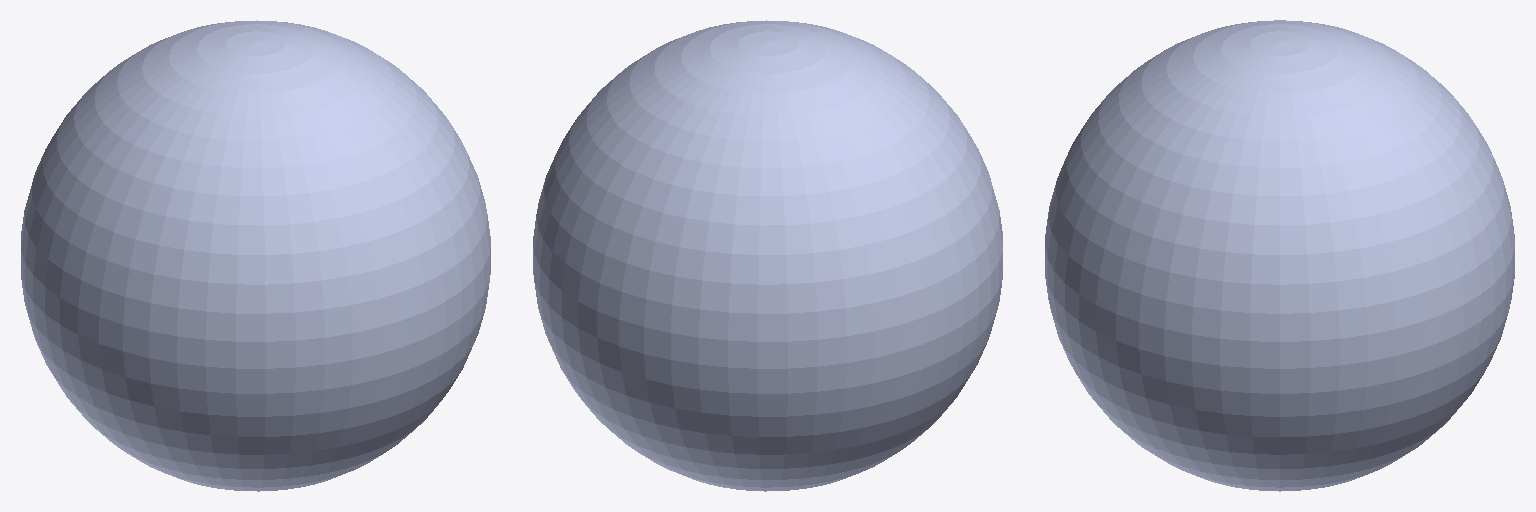
robot.urdf — tennis_ball2:
<?xml version="1.0" encoding="utf-8"?>
<!-- This URDF was automatically created by SolidWorks to URDF Exporter! Originally created by [author] ([email redacted]) 
     Commit Version: 1.6.0-4-g7f85cfe  Build Version: 1.6.7995.38578
     For more information, please see http://wiki.ros.org/sw_urdf_exporter -->
<robot
  name="tennis_ball2">
  <link
    name="base_link">
    <inertial>
      <origin
        xyz="-0.00050416 -3.1794E-06 -0.00035918"
        rpy="0 0 0" />
      <mass
        value="0.02382" />
      <inertia
        ixx="8.6651E-06"
        ixy="6.0302E-38"
        ixz="-1.7645E-38"
        iyy="8.6651E-06"
        iyz="-3.4438E-38"
        izz="8.6651E-06" />
    </inertial>
    <visual>
      <origin
        xyz="0 0 0"
        rpy="0 0 0" />
      <geometry>
        <mesh
          filename="package://tennis_ball2/meshes/base_link.STL" />
      </geometry>
      <material
        name="">
        <color
          rgba="0.79216 0.81961 0.93333 1" />
      </material>
    </visual>
    <collision>
      <origin
        xyz="0 0 0"
        rpy="0 0 0" />
      <geometry>
        <mesh
          filename="package://tennis_ball2/meshes/base_link.STL" />
      </geometry>
    </collision>
  </link>
</robot>

--- What the picture shows (computed from the rendered views, not written in the file) ---
Views: 3 orthographic renders of the robot side by side, from view 1: azimuth 30°, elevation 25°; view 2: azimuth 150°, elevation 25°; view 3: azimuth 270°, elevation 25°.
Model tennis_ball2 with 1 links and 0 joints (none), rooted at base_link, posed every joint at zero.
Visible links, largest first — view 1: base_link; view 2: base_link; view 3: base_link.
Boxes of the visible links, x1=… form: base_link: x1=21, y1=20, x2=490, y2=491; base_link: x1=533, y1=20, x2=1002, y2=491; base_link: x1=1045, y1=20, x2=1514, y2=491.
Bounding box of the posed robot: 0.0499 × 0.0499 × 0.05 m (x, y, z).
Meshes: 1 distinct files referenced, 1 mesh visuals loaded (1 binary STL).